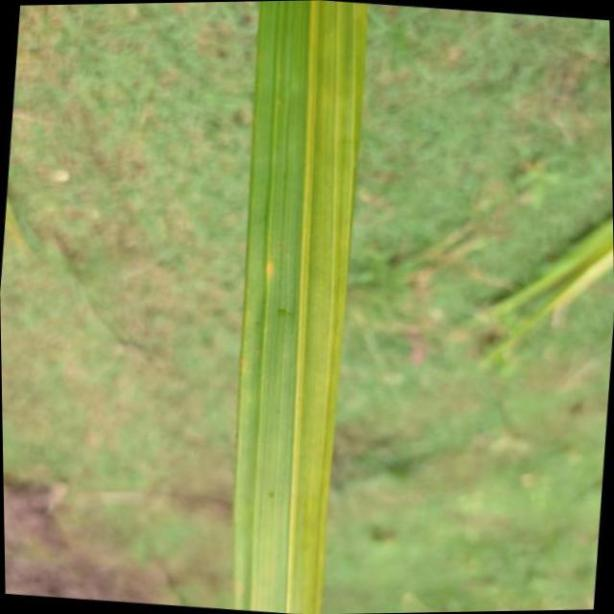nitrogen: (240, 0, 363, 614)
